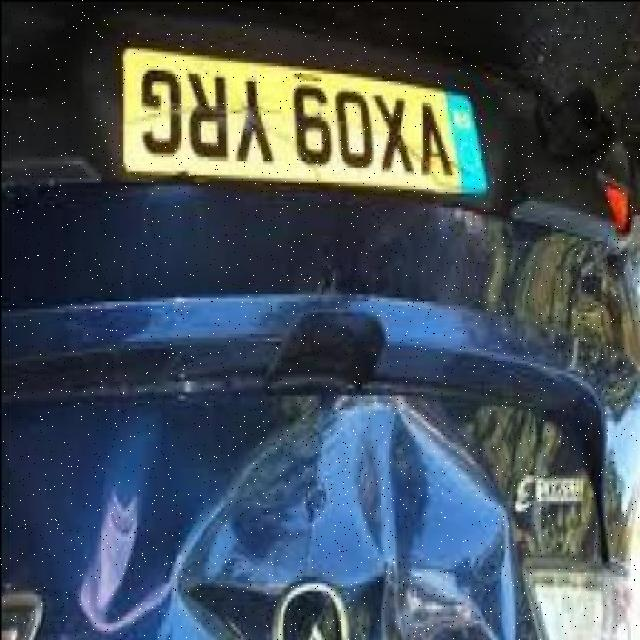damage: (62, 393, 518, 640)
